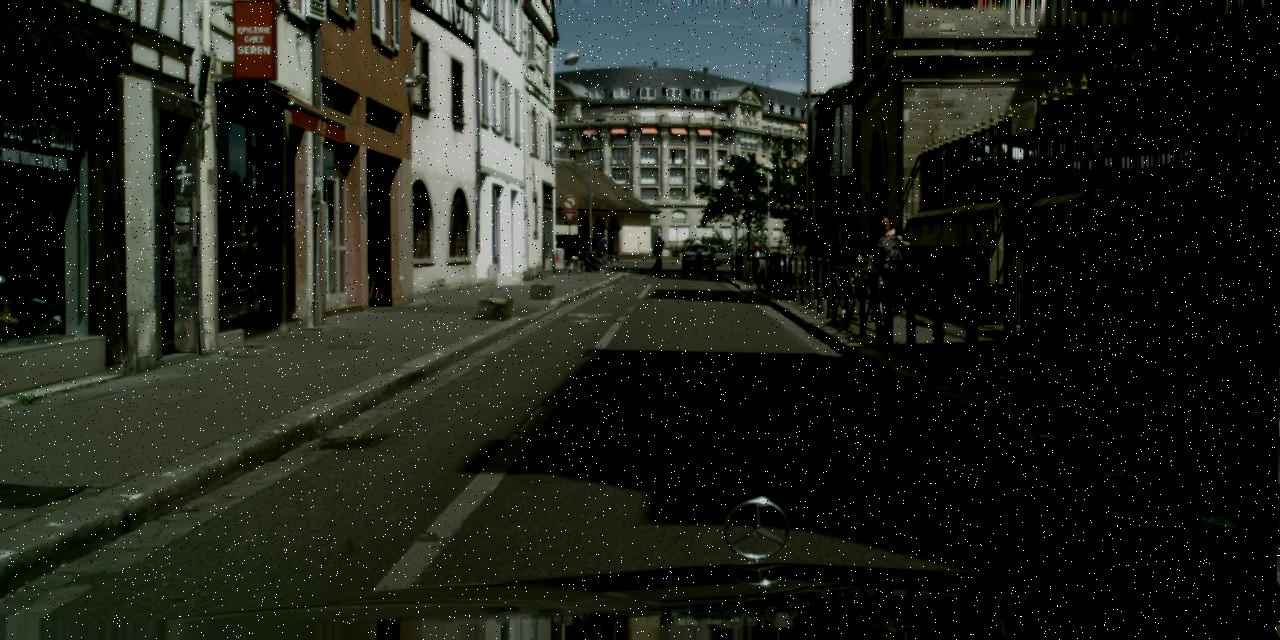ped: (868, 216, 908, 310), (650, 237, 664, 272), (652, 241, 666, 274), (691, 246, 702, 276), (776, 240, 786, 262), (751, 240, 760, 262), (599, 233, 607, 256), (692, 237, 701, 257)
